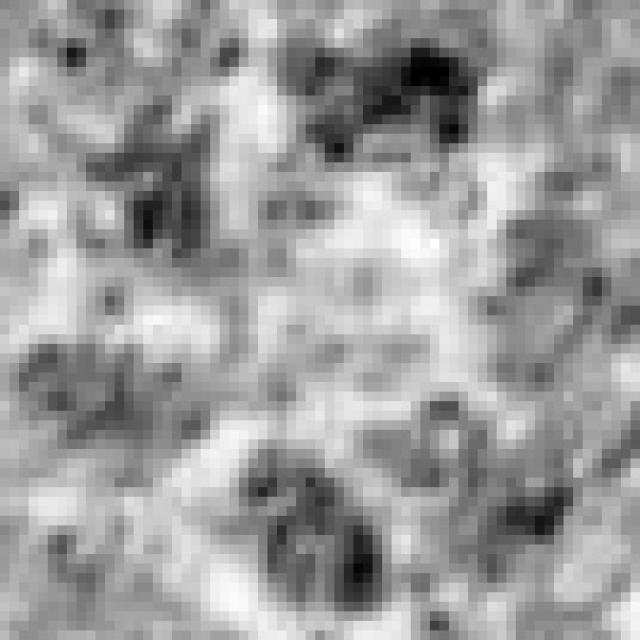inner: (219, 169, 466, 431)
lobe: (363, 394, 582, 594), (466, 157, 623, 407), (212, 435, 397, 623), (6, 335, 213, 495), (275, 24, 497, 170), (69, 100, 240, 285)
outer: (1, 1, 640, 640)
